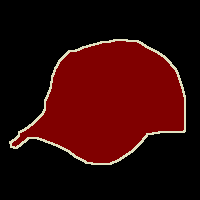hat: (10, 40, 185, 164)
